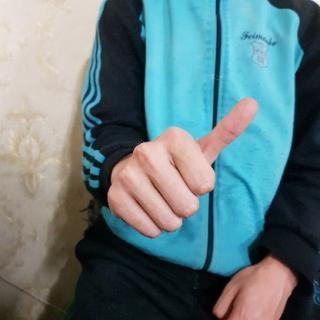ALIF: (103, 96, 264, 245)
